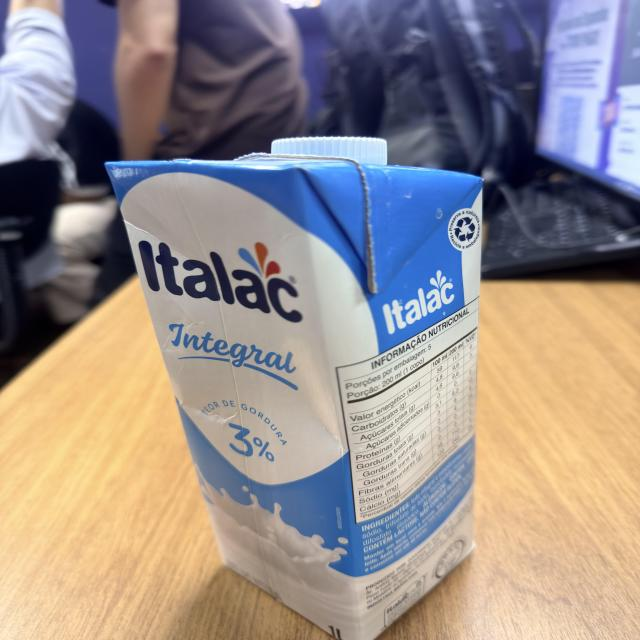Caixa de Leite: (105, 138, 485, 640)
